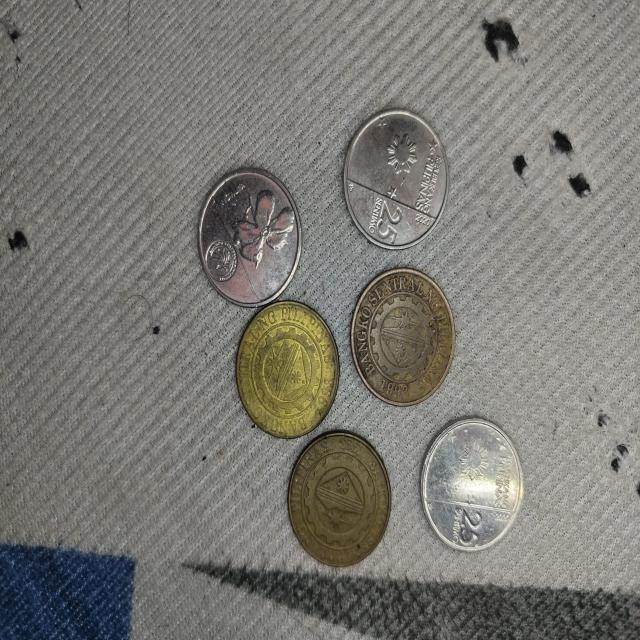25 cents: (194, 159, 306, 314), (342, 109, 450, 249), (419, 418, 523, 550)
25 cents-old: (351, 268, 457, 407), (235, 302, 339, 439), (288, 431, 390, 566)
